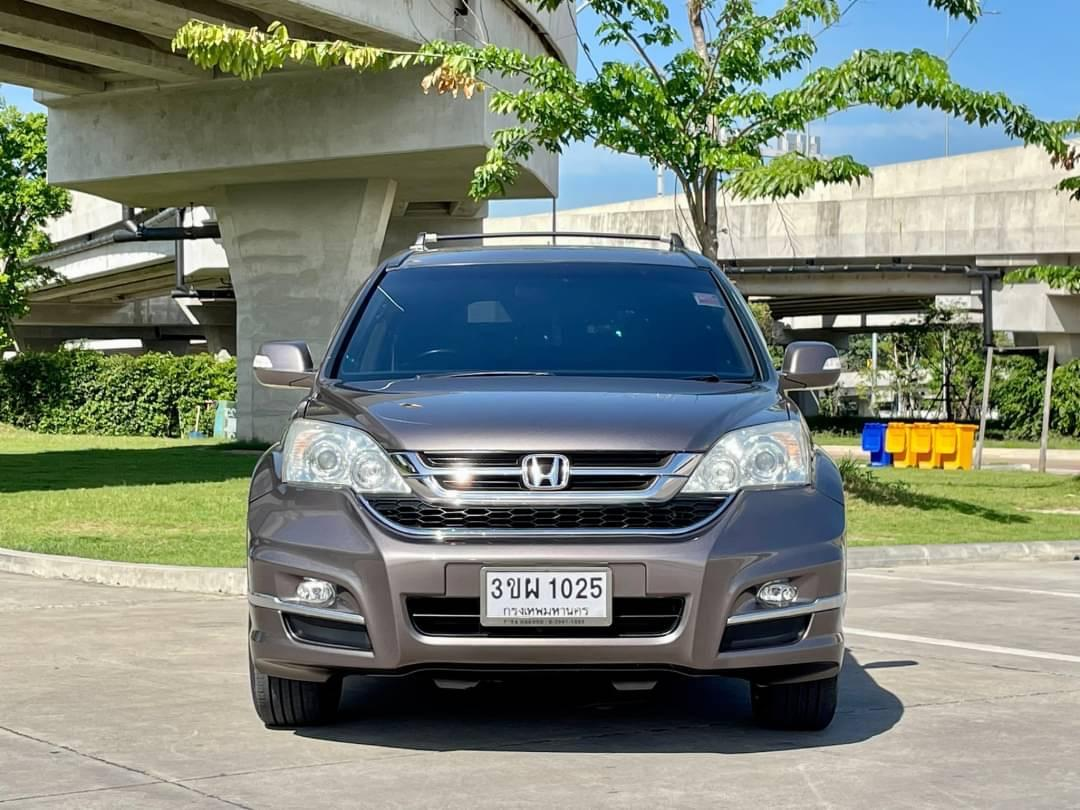license-plate: (472, 561, 621, 633)
